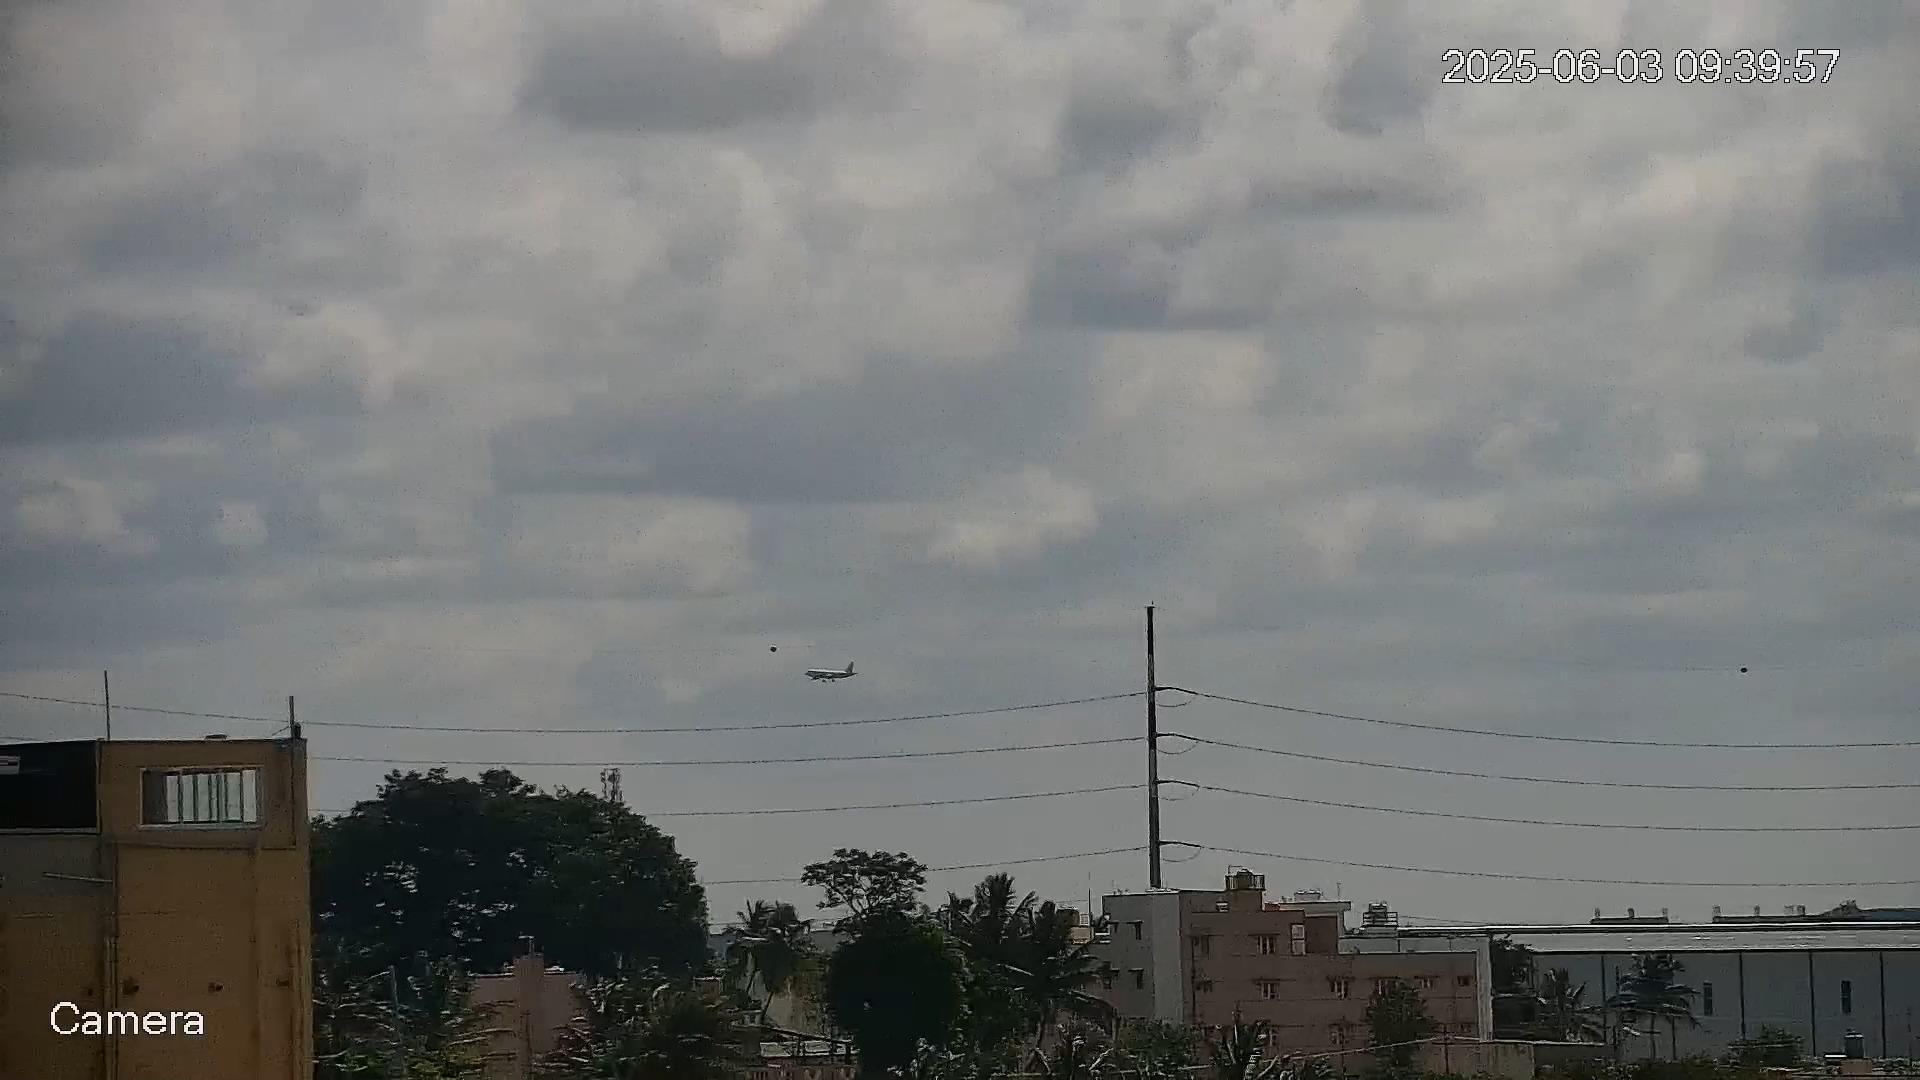Aircraft: (803, 661, 860, 682)
